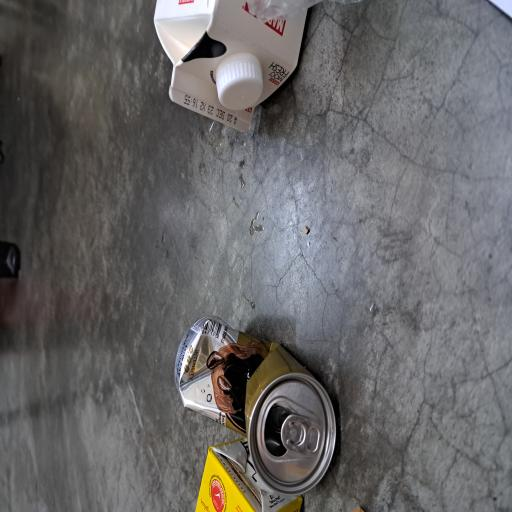can: (13, 230, 147, 451)
drink carton: (284, 205, 384, 413), (0, 258, 53, 402)
plastic bottle cap: (300, 288, 339, 351)
pop tab: (41, 374, 73, 432)
